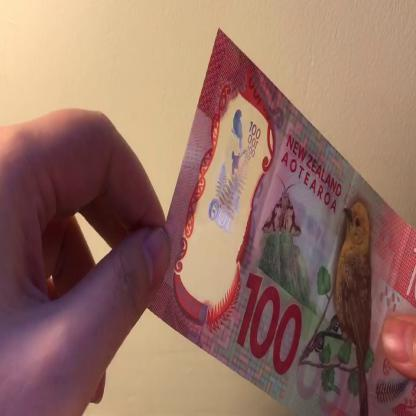100B: (206, 102, 262, 254)
